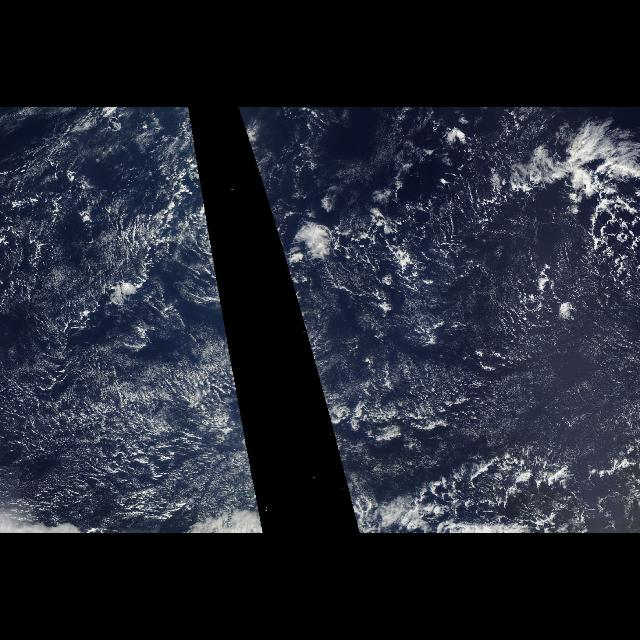Gravel: (289, 148, 639, 326), (1, 140, 220, 324)
Sugar: (2, 108, 258, 520), (322, 211, 640, 487)
